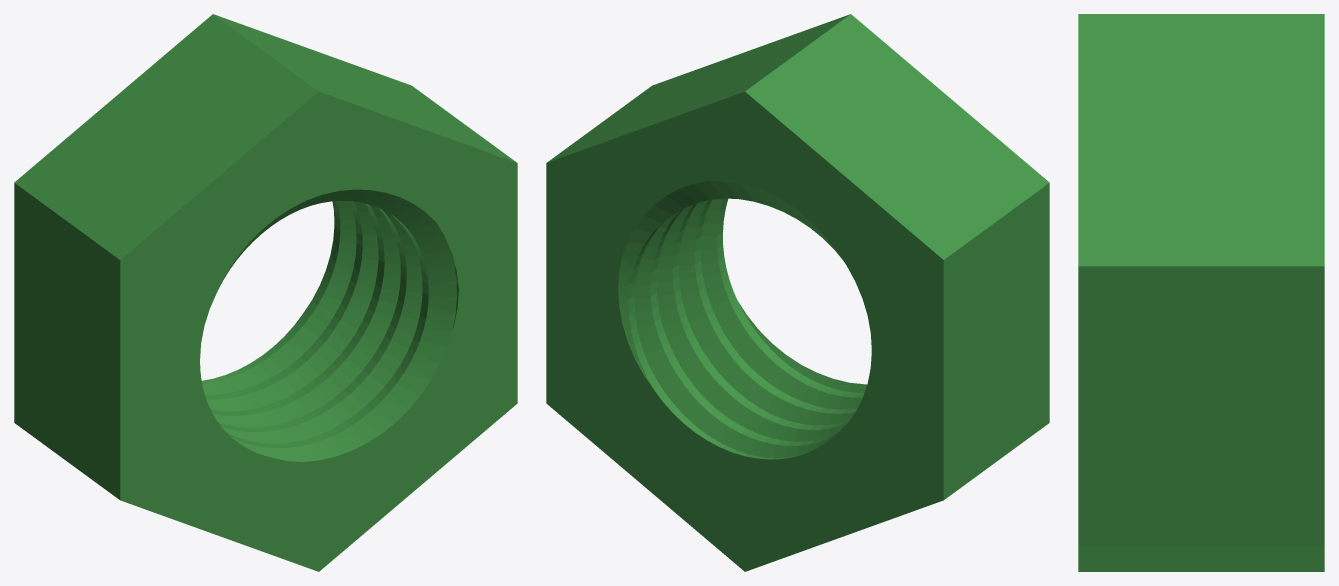
The model's file is M8_Nut_Corpo1_Mesh.obj.
3 renders of one model, left to right at view 1: azimuth 30°, elevation 25°; view 2: azimuth 150°, elevation 25°; view 3: azimuth 270°, elevation 25°, orthographic. The views are drawn at different scales.
Size of the model in its own units: 0.013 by 0.015 by 0.006.
